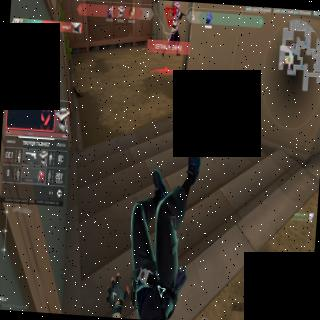ENEMY-HEAD: (174, 2, 180, 12)
